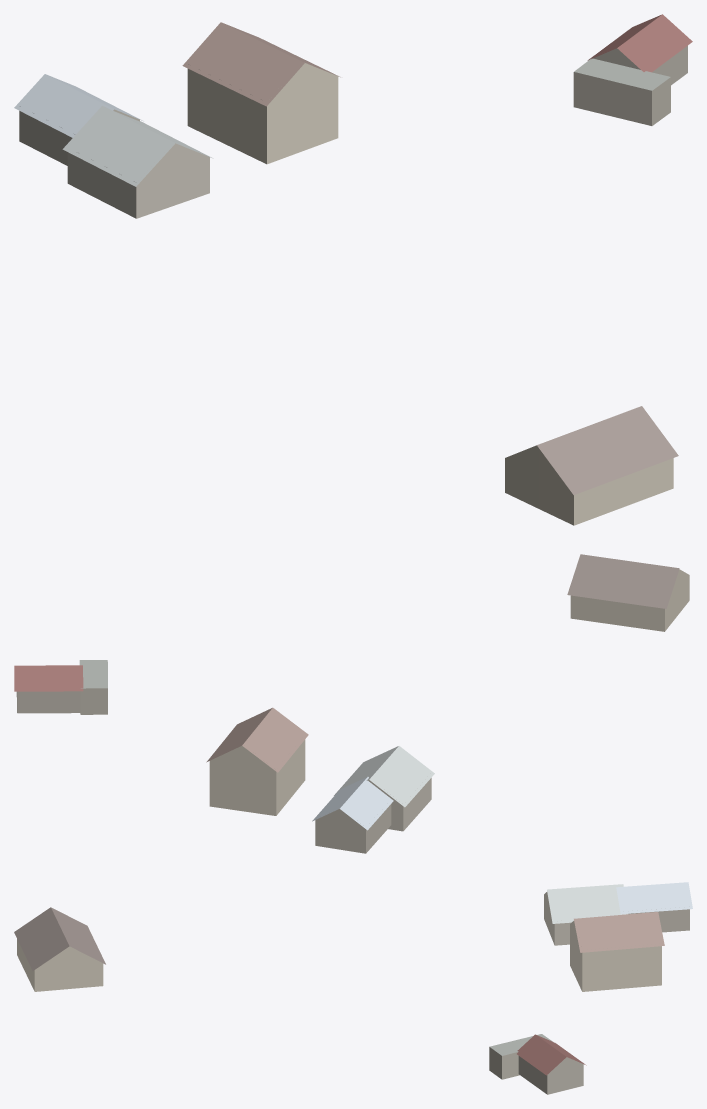
3 views of the same model, one above another, from view 1: azimuth 30°, elevation 25°; view 2: azimuth 150°, elevation 25°; view 3: azimuth 270°, elevation 25° (orthographic). The views are drawn at different scales.
Visible parts, largest first — view 1: tuile; view 2: tuile; view 3: tuile.
Boxes of the visible parts, box(x1,y1,x2,y2) form: tuile: box(14, 14, 692, 525); tuile: box(14, 554, 689, 853); tuile: box(14, 882, 692, 1094).
Size of the model in its own units: 63.23 by 13.02 by 95.72.
